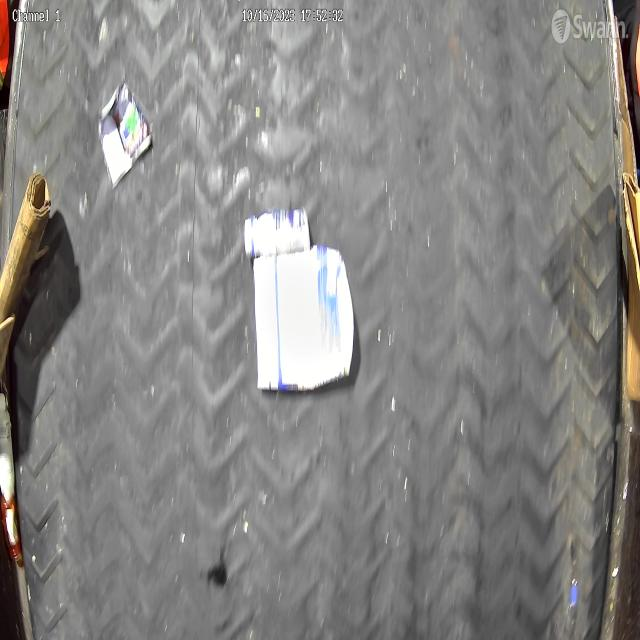can: (98, 82, 152, 188)
